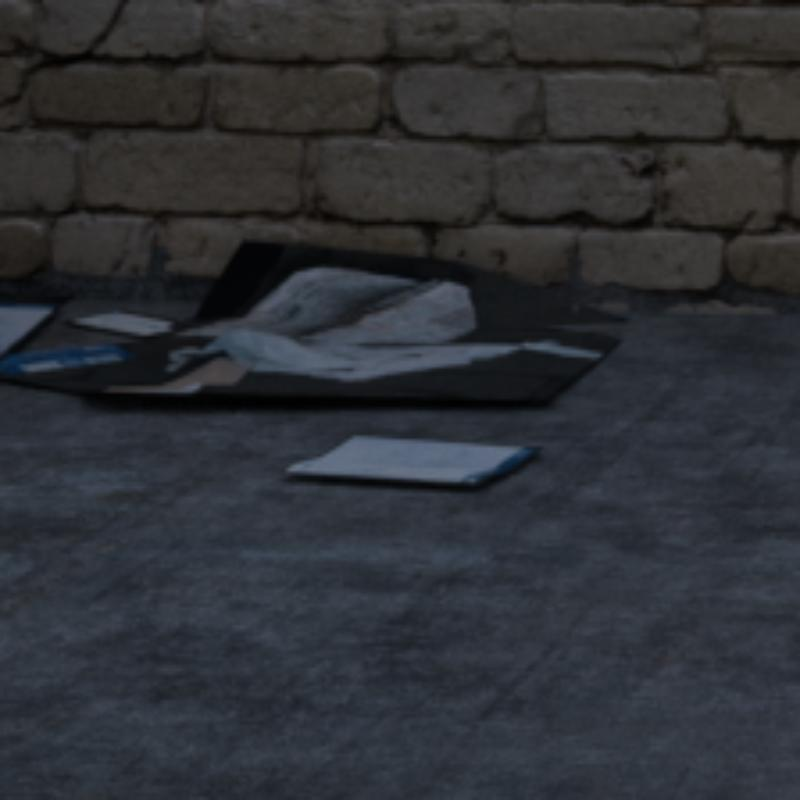crack: (0, 0, 125, 104)
